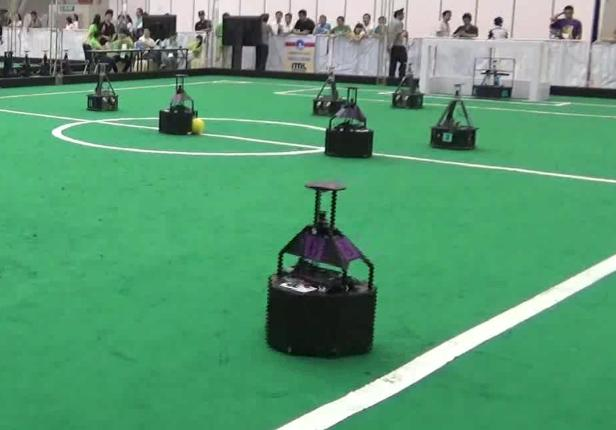robot: (260, 175, 377, 363), (324, 84, 376, 161), (430, 79, 477, 152), (156, 70, 201, 136), (86, 61, 120, 113), (389, 59, 423, 111)
